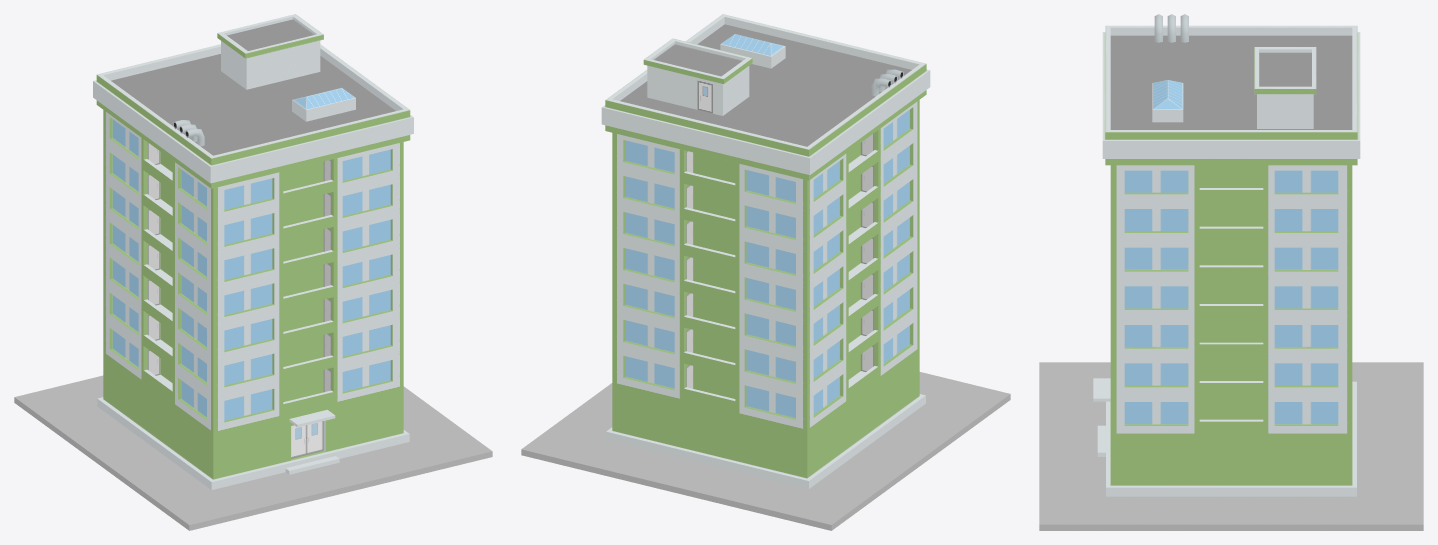
The model's file is Building6.glb.
3 renders of one model, left to right at view 1: azimuth 30°, elevation 25°; view 2: azimuth 150°, elevation 25°; view 3: azimuth 270°, elevation 25°, orthographic. The views are drawn at different scales.
Visible parts, largest first — view 1: Box151; view 2: Box151; view 3: Box151.
Boxes of the visible parts, <box> form: Box151: <box>14,14,492,530</box>; Box151: <box>521,14,1010,530</box>; Box151: <box>1039,14,1423,530</box>.
Bounding box in the file's own units: 12 × 13.92 × 12.
Materials: 1 (1 with a texture image).
